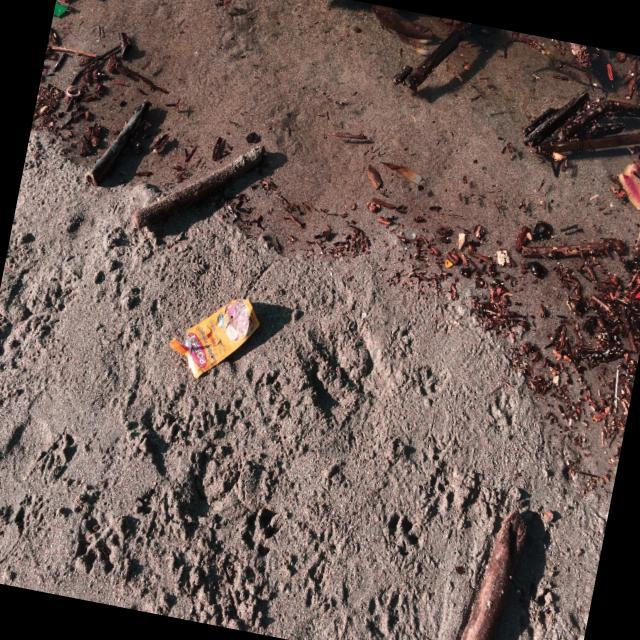less trash: (170, 299, 260, 379)
